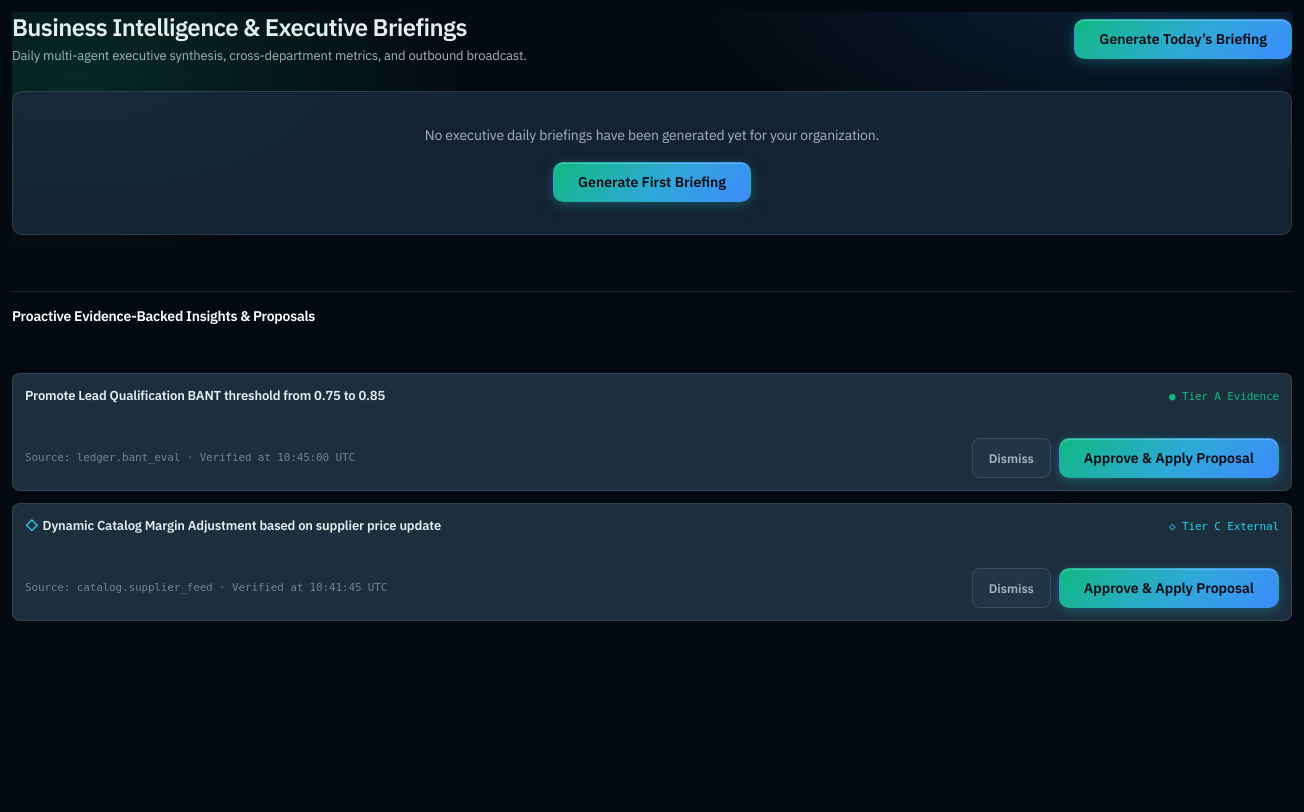
Test: Milestone M11: Admin Console Screens (§18, §23) › Criterion 5: Insights cite real numbers, mark external inputs, and never self-apply (§18.4) › renders proactive proposals with real metrics, external markers, and explicit approval actions
This screenshot has width=1304, height=812.
Expected: the heading "Proactive Evidence-Backed Insights & Proposals" is shown, [12, 307, 315, 325]
Expected: the text "◇ Tier C External" is shown, [1169, 518, 1279, 535]
Click the button "Approve & Apply Proposal" below "● Tier A Evidence" at (1169, 458), box [1059, 438, 1279, 478]
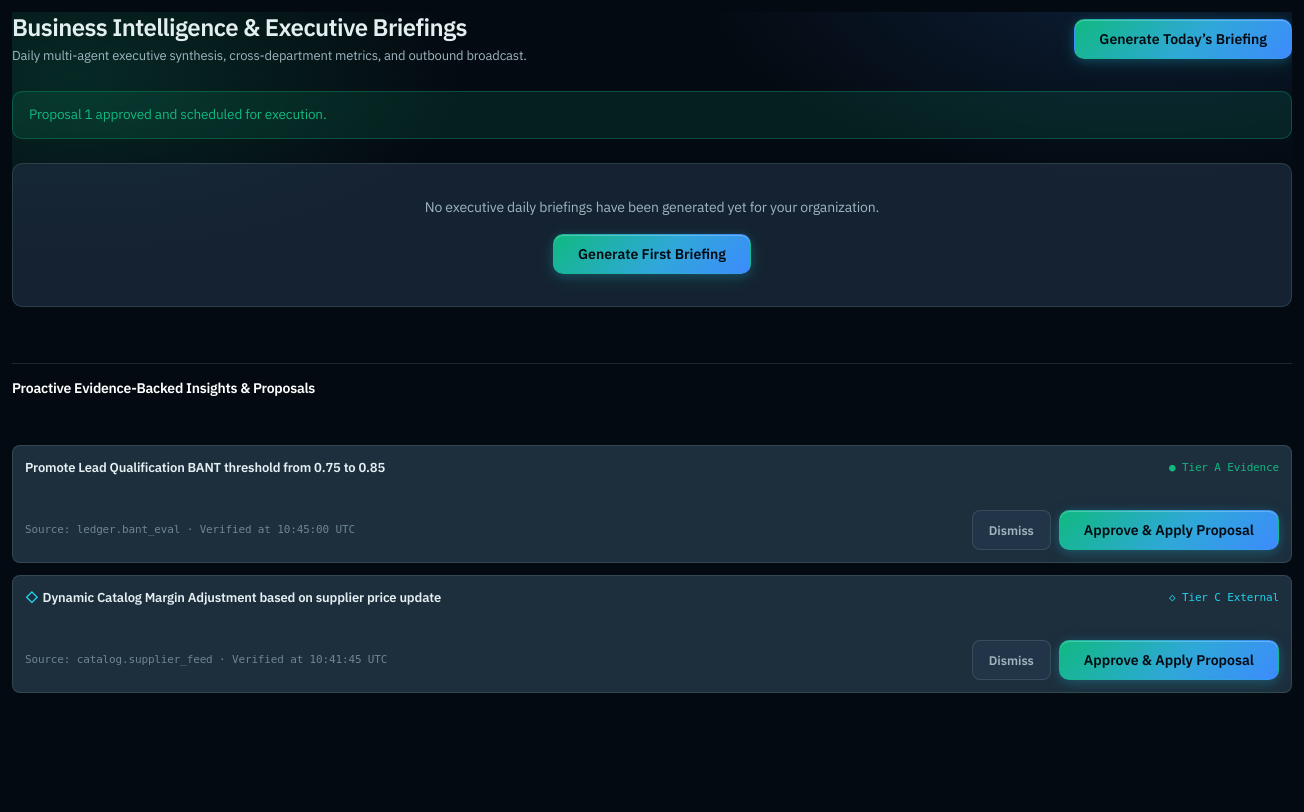
Result: the text "Proposal 1 approved and scheduled for execution." is shown at [12, 91, 1292, 139]
